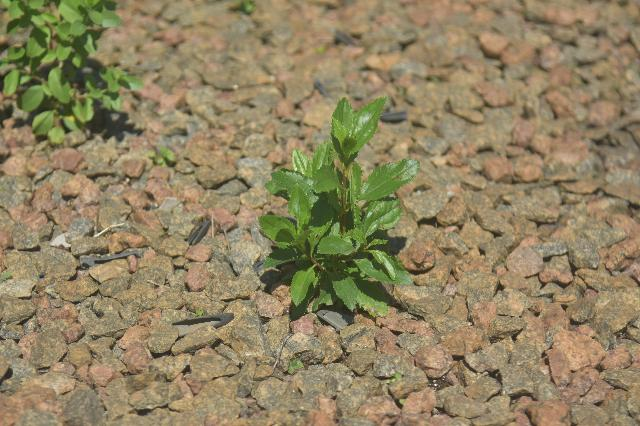MalezaMontesDelPlata: (255, 94, 427, 326)
